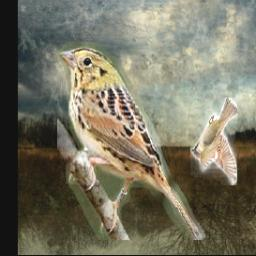Sparrow: (58, 43, 207, 241), (190, 98, 237, 185)
